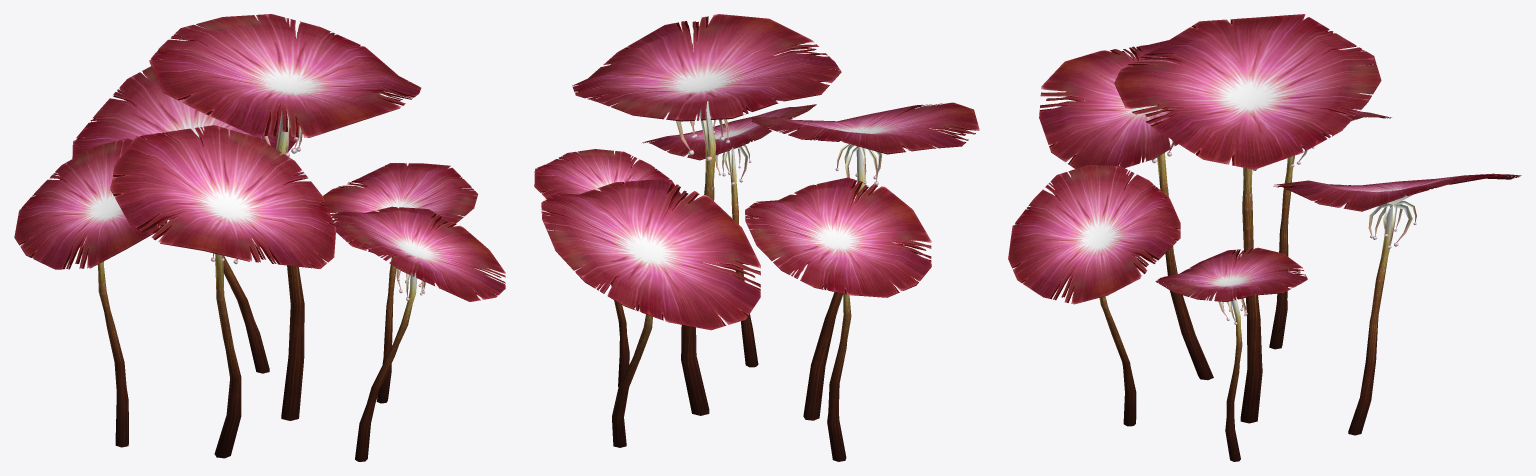
File: LHFD_faguangzhiguanmu01.FBX
3 renders of one model, left to right at view 1: azimuth 30°, elevation 25°; view 2: azimuth 150°, elevation 25°; view 3: azimuth 270°, elevation 25°, orthographic. The views are drawn at different scales.
Visible parts, largest first — view 1: LHFD_faguangzhiguanmu01; view 2: LHFD_faguangzhiguanmu01; view 3: LHFD_faguangzhiguanmu01.
Part boxes in pixels (x1,y1,x2,y2): LHFD_faguangzhiguanmu01: (14,14,505,461); LHFD_faguangzhiguanmu01: (534,14,979,461); LHFD_faguangzhiguanmu01: (1008,14,1521,461).
Size of the model in its own units: 610 by 520 by 688.
Materials: 1 (1 with a texture image).
